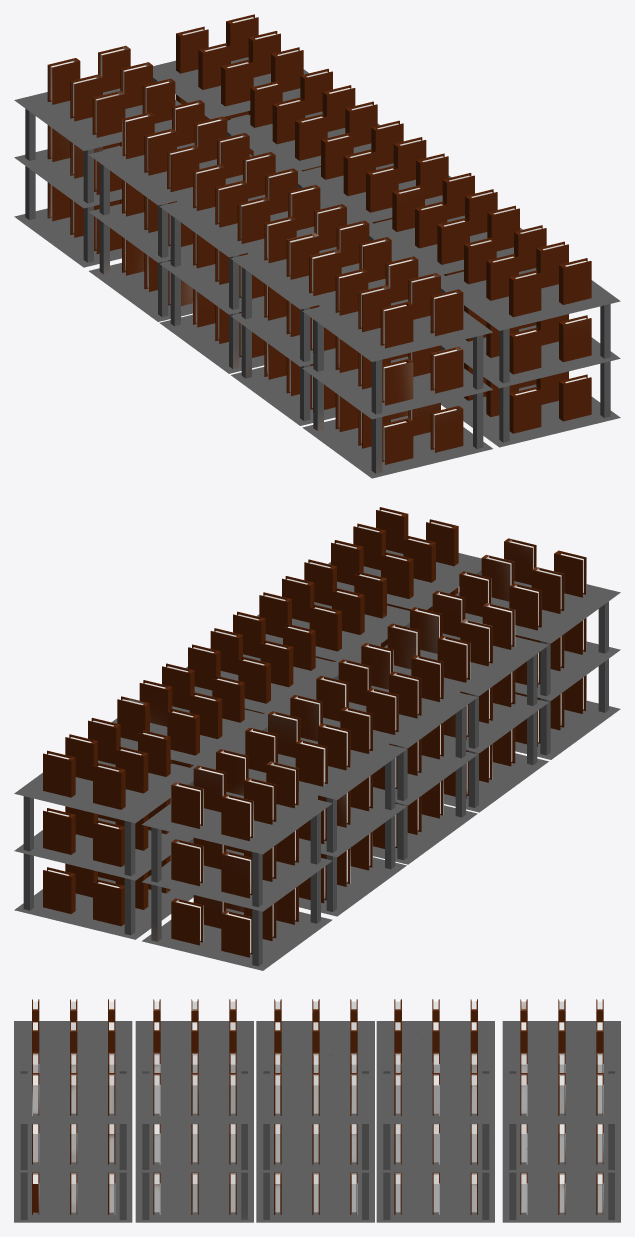
Rendered from EstanteriaLibro5x2.obj.
3 views of the same model, one above another, from view 1: azimuth 30°, elevation 25°; view 2: azimuth 150°, elevation 25°; view 3: azimuth 270°, elevation 25° (orthographic). The views are drawn at different scales.
Visible parts, largest first — view 1: EstanteLibros5X2; view 2: EstanteLibros5X2; view 3: EstanteLibros5X2.
Boxes of the visible parts, <box> form: EstanteLibros5X2: <box>14,14,620,478</box>; EstanteLibros5X2: <box>14,507,620,970</box>; EstanteLibros5X2: <box>14,999,620,1222</box>.
Size of the model in its own units: 4.1 by 2.41 by 10.2.
1 material, 1 textured.
